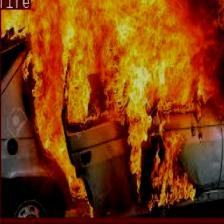fire: (0, 0, 224, 222)
